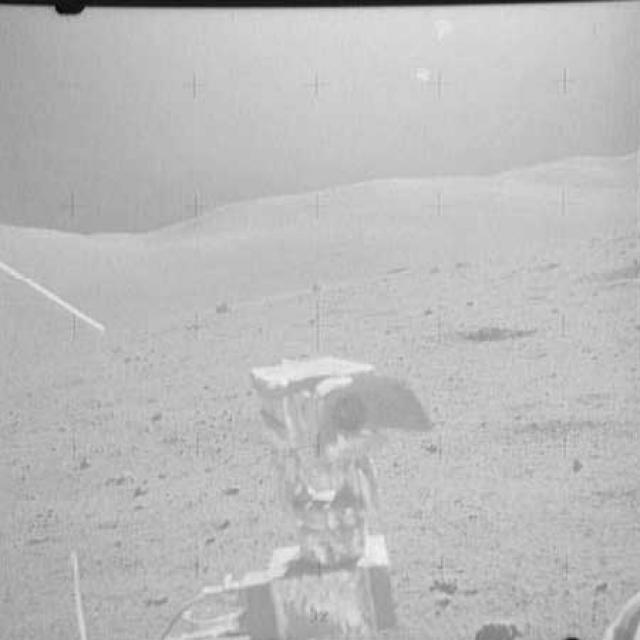artifact: (160, 349, 440, 640), (0, 259, 113, 341), (60, 540, 102, 638)
crater: (431, 316, 538, 346), (577, 258, 639, 291), (507, 256, 563, 278)
